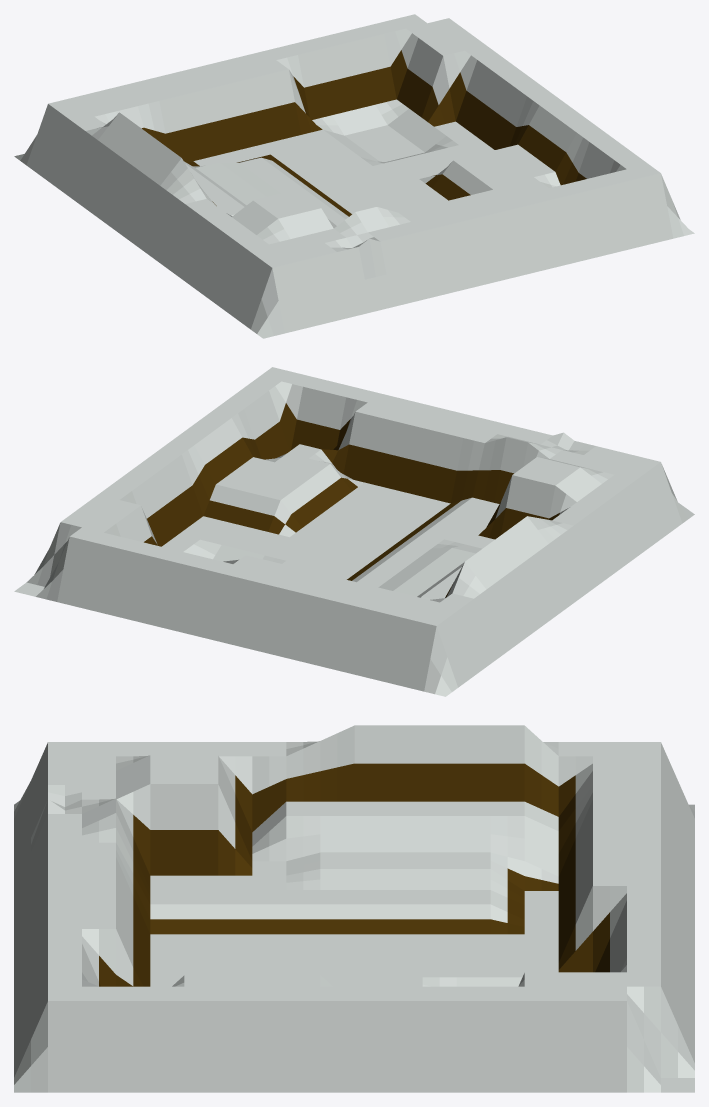
File: Terrain_first_draft.fbx
3 views of the same model, one above another, from view 1: azimuth 30°, elevation 25°; view 2: azimuth 150°, elevation 25°; view 3: azimuth 270°, elevation 25° (orthographic). The views are drawn at different scales.
Visible parts, largest first — view 1: Plane; view 2: Plane; view 3: Plane.
Boxes of the visible parts, x1,y1,x2,y2 form: Plane: (14,14,694,338); Plane: (14,367,694,696); Plane: (14,725,694,1092).
Size of what is drawn, in the model's own units: 4000 by 800 by 4000.
